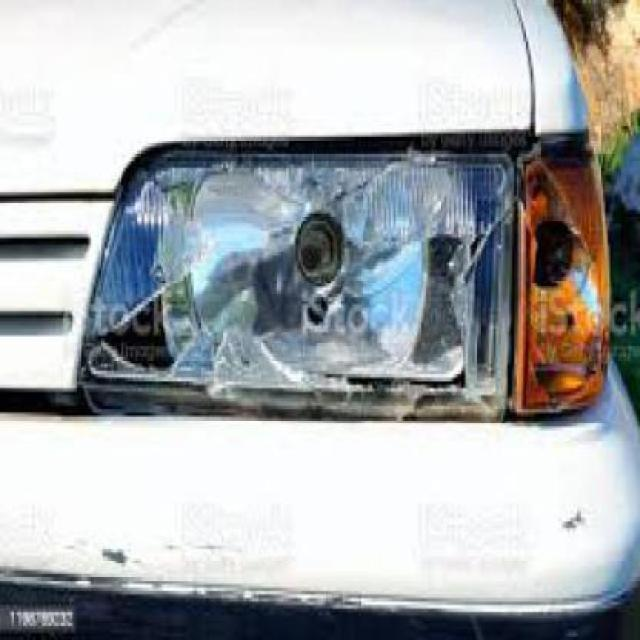Headlight-Damage: (82, 126, 529, 427)
Signlight-Damage: (523, 157, 609, 416)
